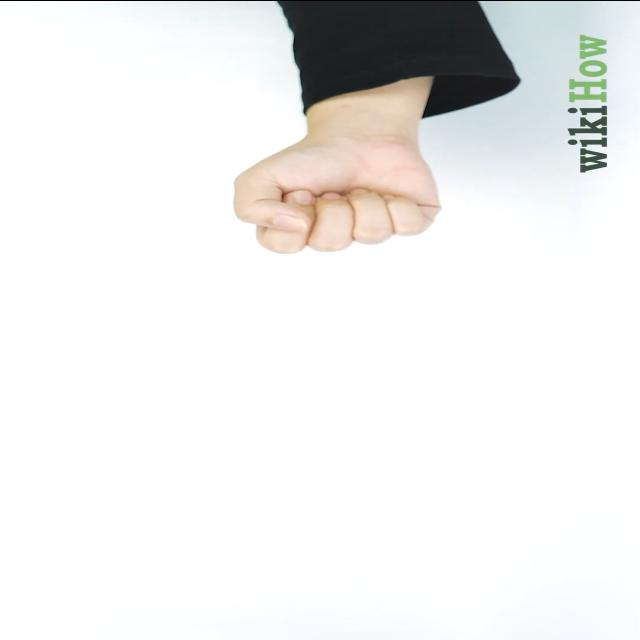Rock: (227, 140, 445, 254)
